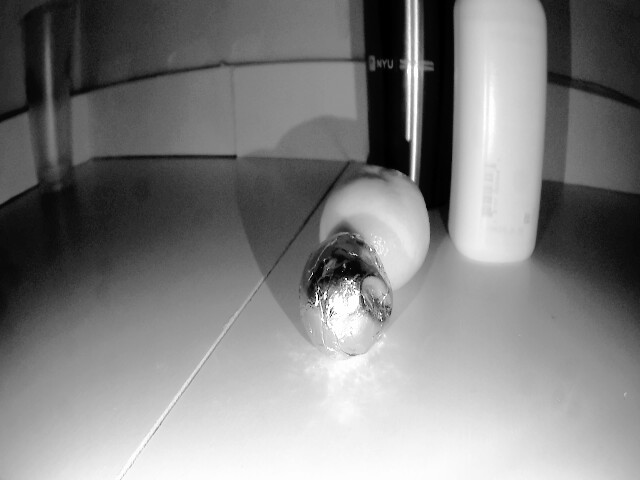silver: (300, 233, 392, 359)
